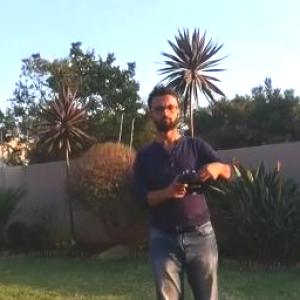follow: (129, 74, 241, 299)
